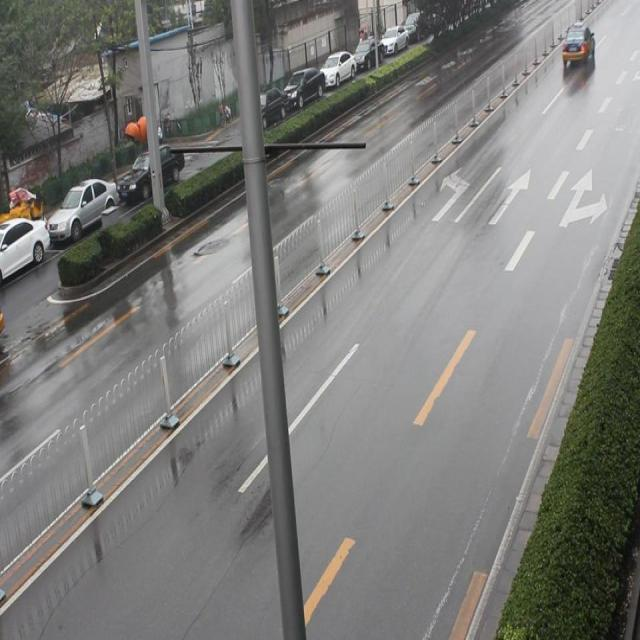car: (558, 20, 595, 75)
